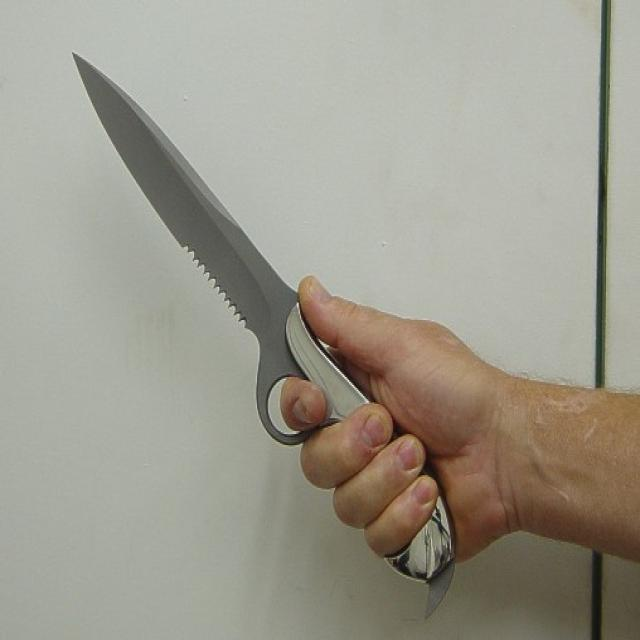knife: (68, 47, 461, 627)
